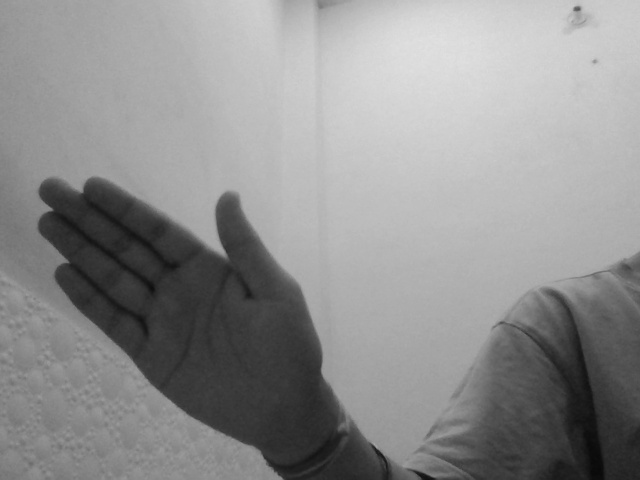Hello: (33, 167, 341, 456)
